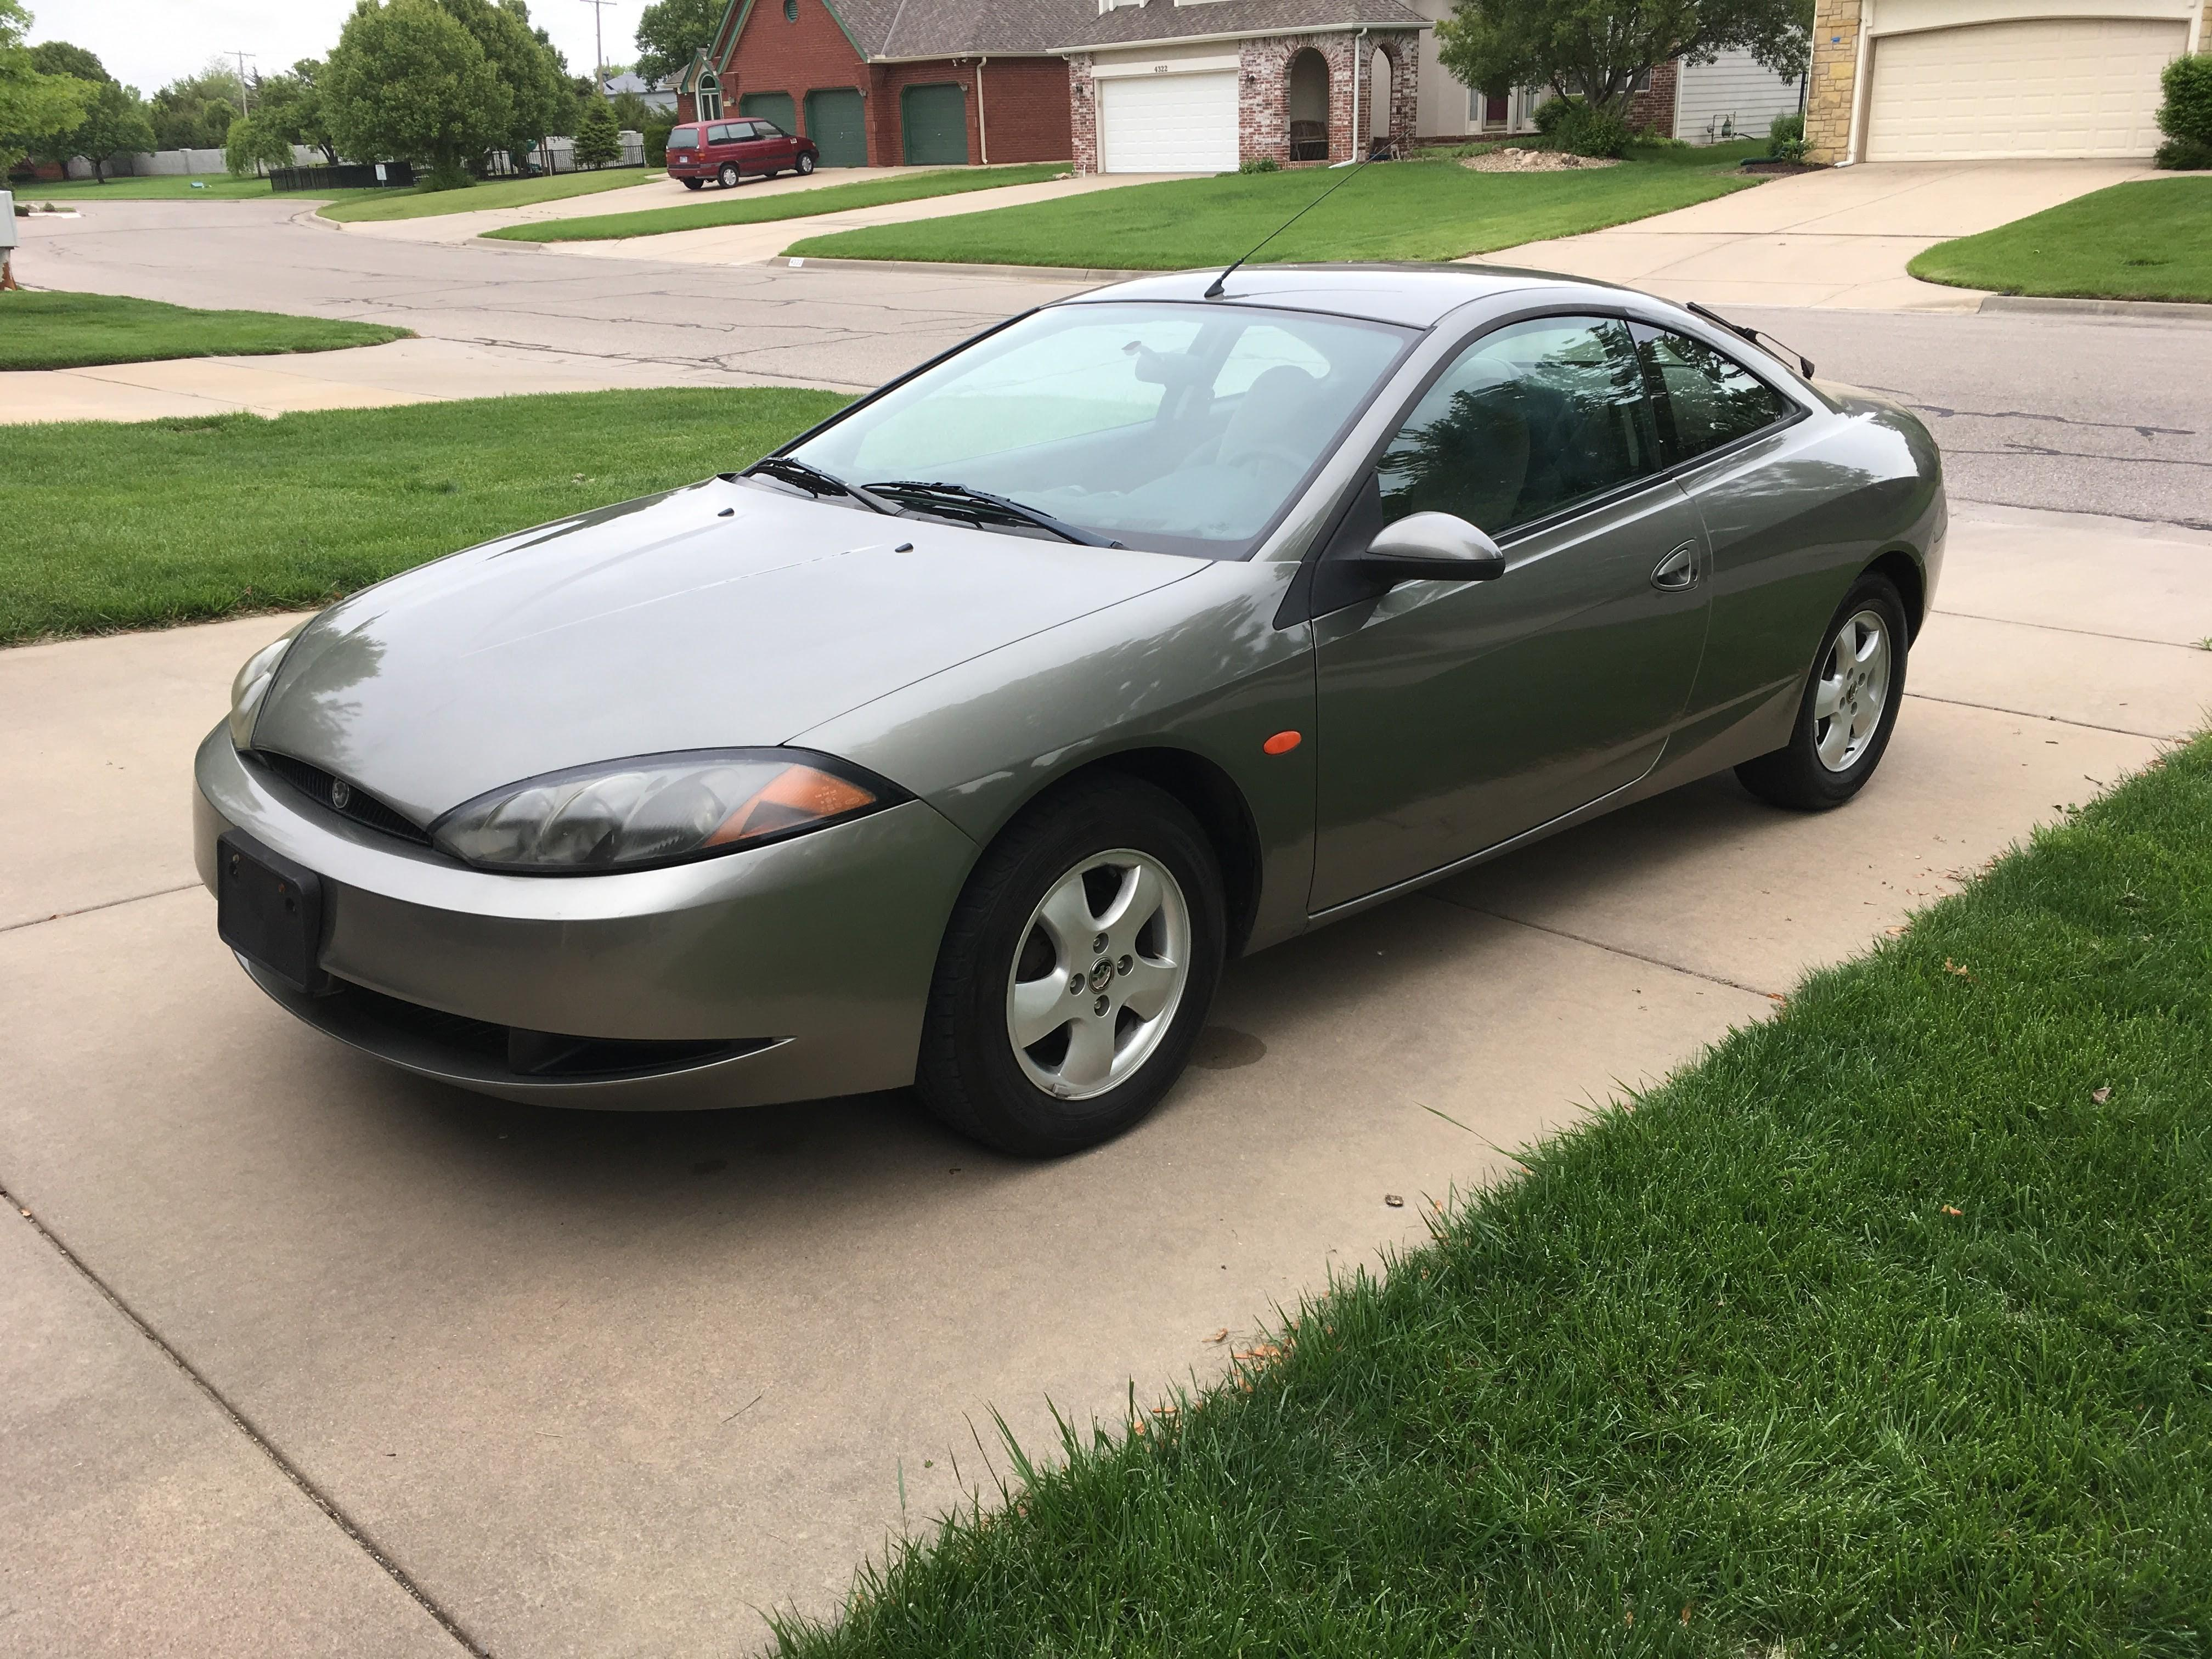car: (183, 249, 1958, 1168)
